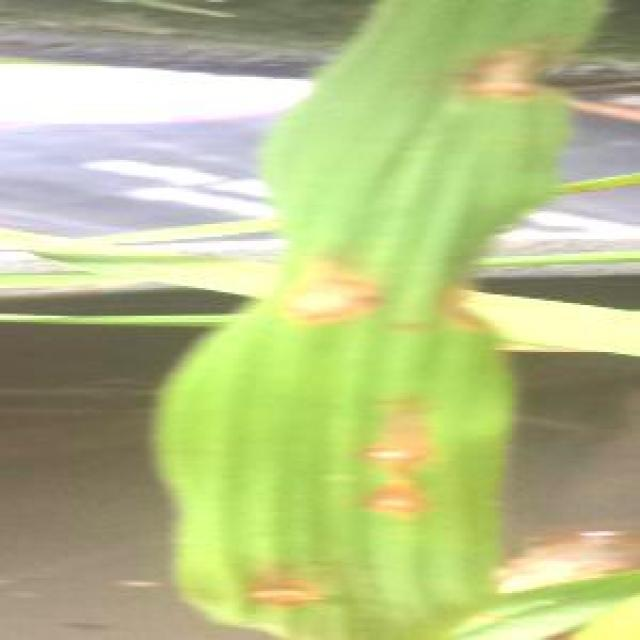Rice_Blast: (186, 506, 356, 628), (254, 232, 397, 344), (324, 382, 457, 478), (450, 32, 563, 126), (342, 472, 438, 534)
